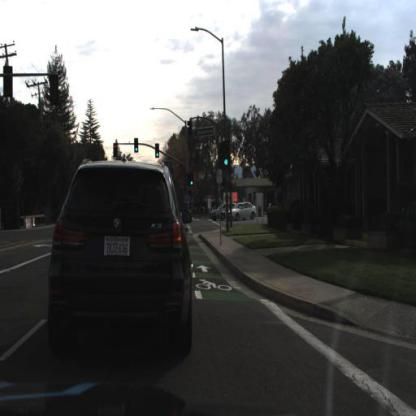car: (44, 156, 196, 365), (226, 201, 257, 224)
trafficLight: (112, 140, 120, 161)
trafficLight-Green: (220, 143, 233, 177), (156, 143, 161, 159), (191, 175, 196, 189), (135, 139, 139, 153)
